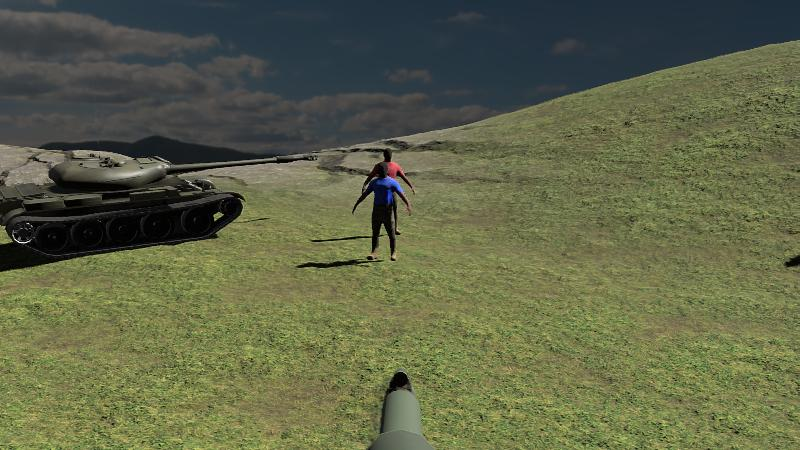Human: (352, 162, 412, 262)
Tank: (0, 151, 319, 258)
